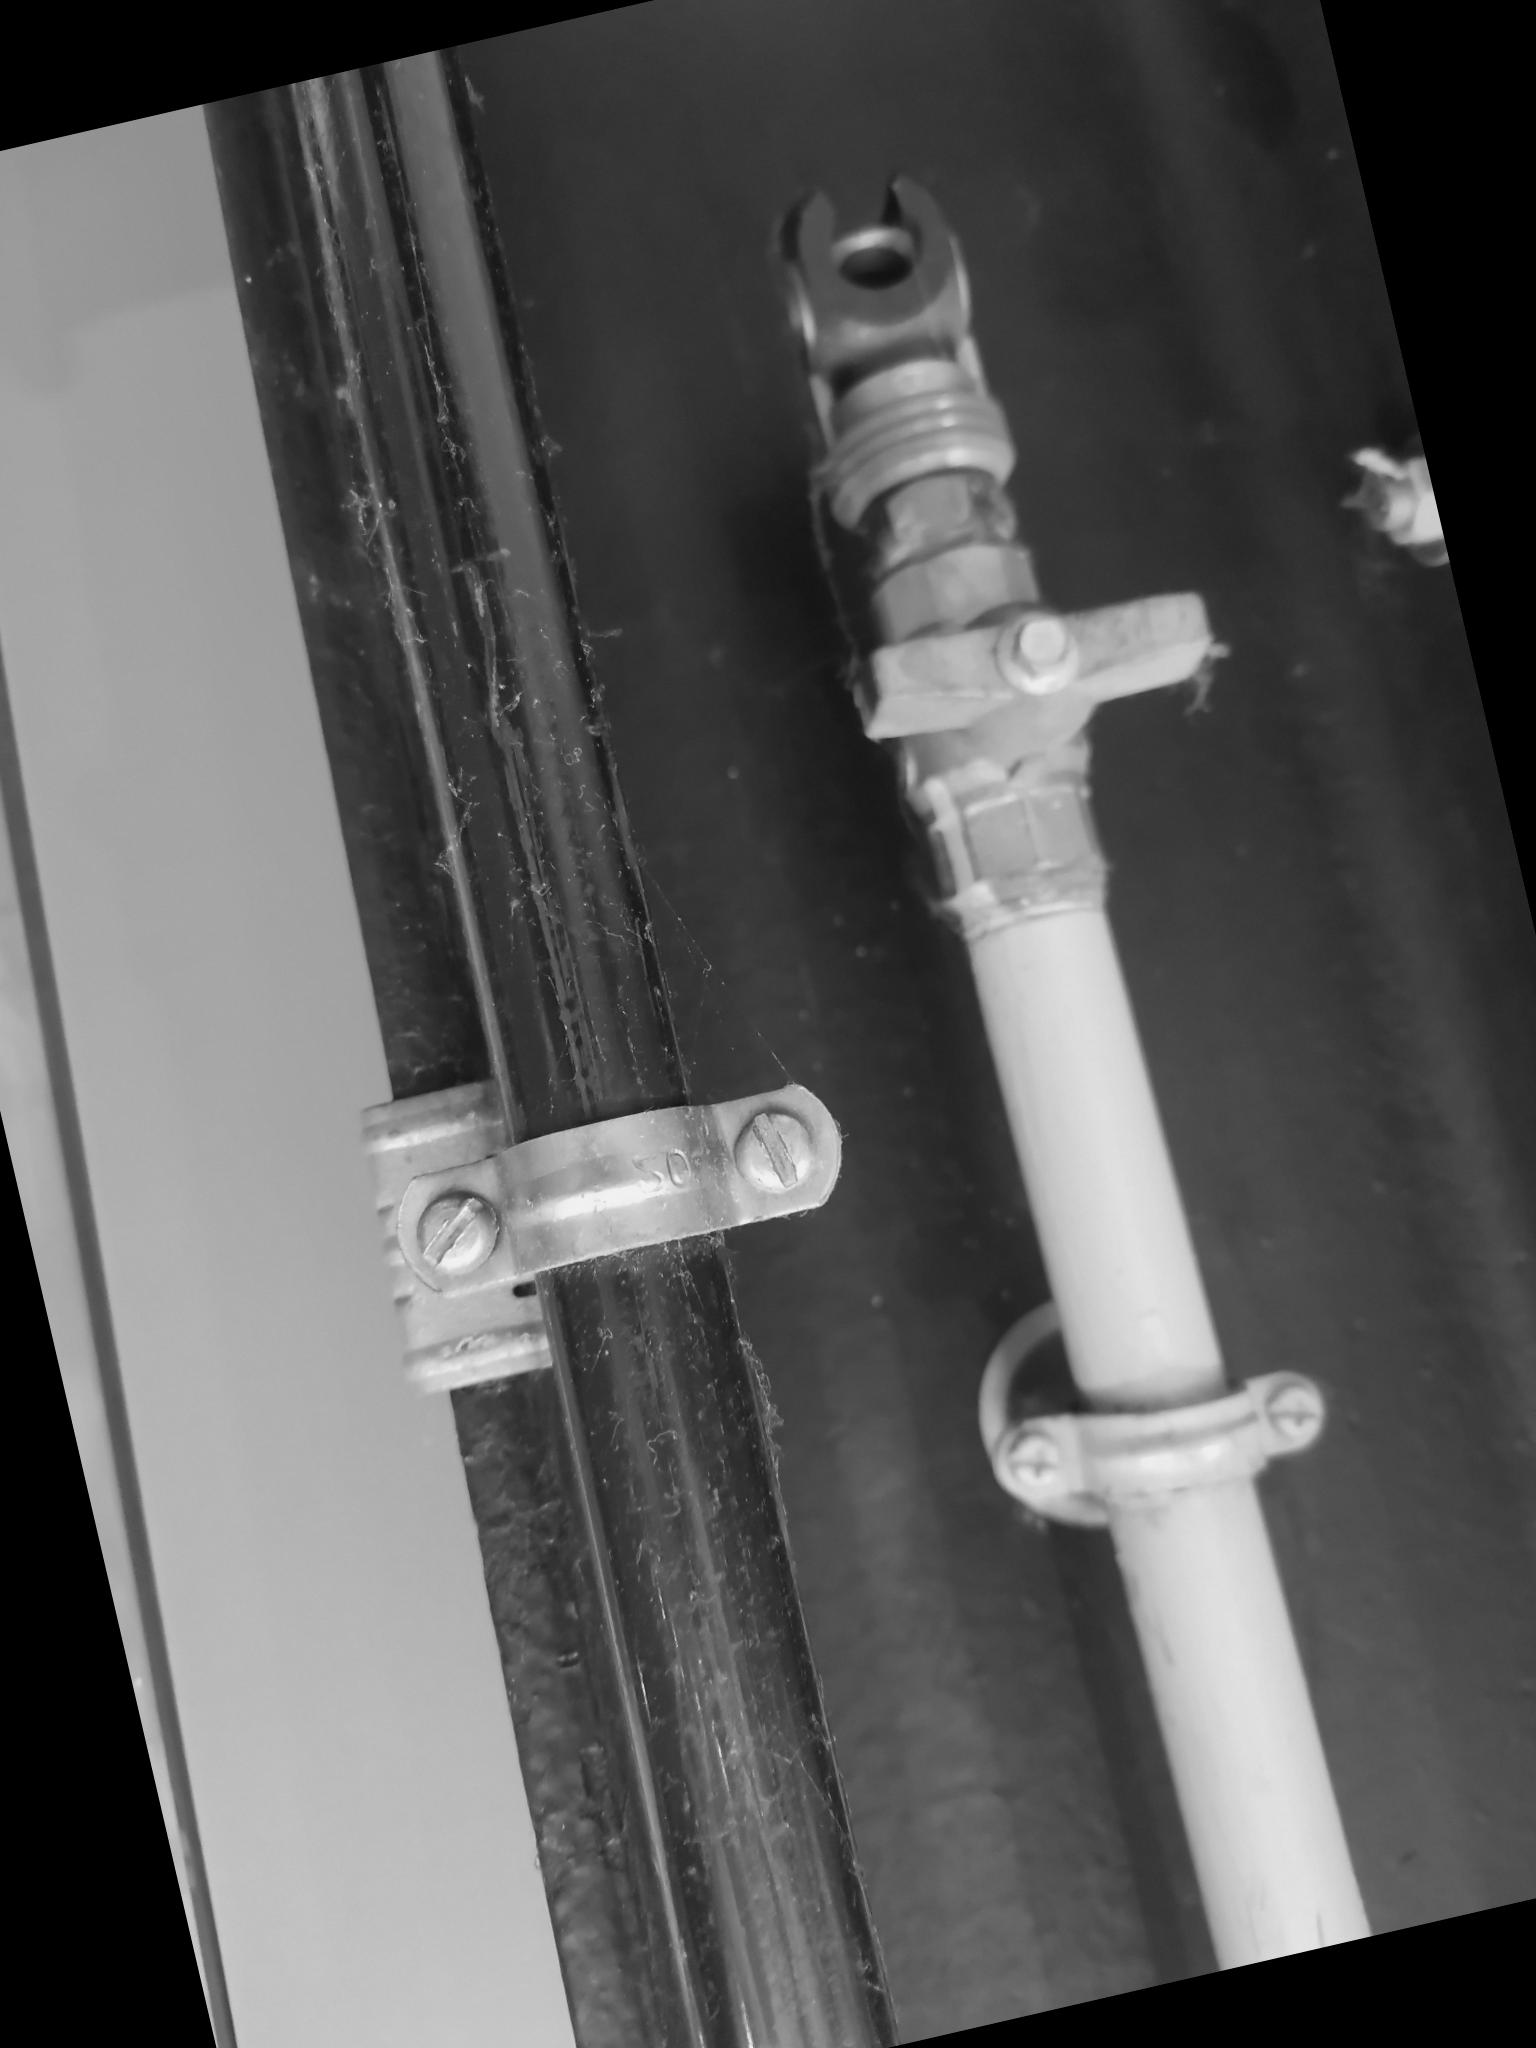screw: (402, 1177, 511, 1280), (723, 1098, 824, 1201)
